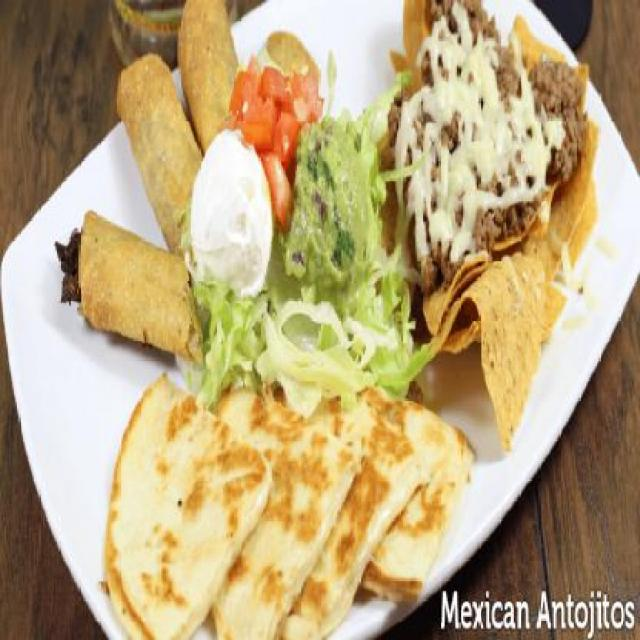chicken quesadilla: (90, 340, 476, 638)
guacamole: (284, 103, 385, 328)
spring rolls: (32, 2, 271, 360)
